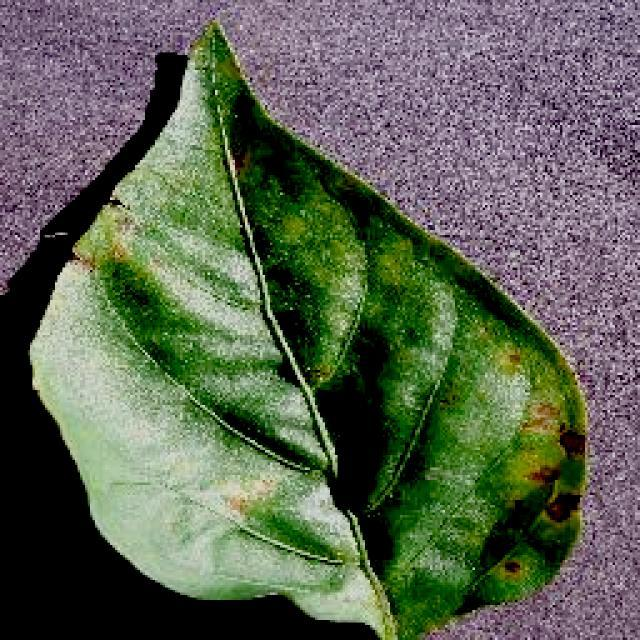Bercak Daun Serkospora: (28, 18, 592, 638)
